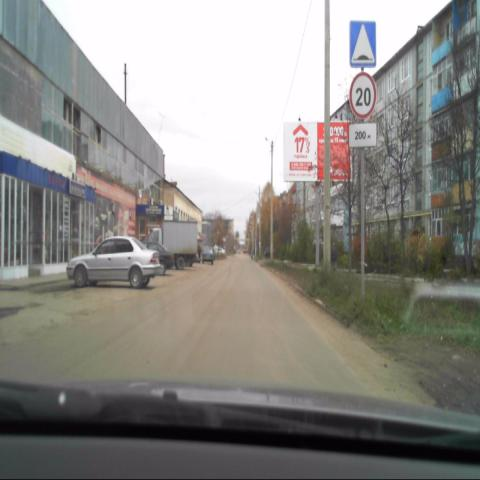8_1_1: (349, 123, 376, 149)
